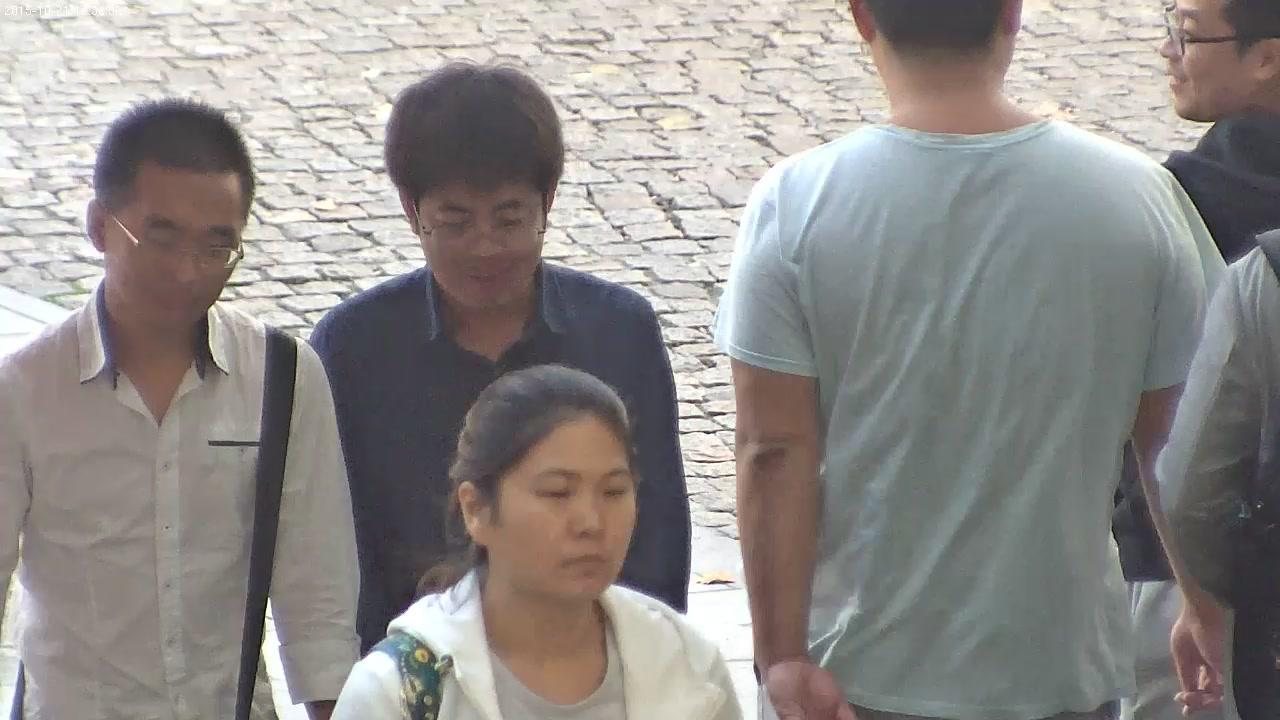face: (486, 413, 635, 598), (102, 161, 242, 321), (418, 181, 539, 304), (1160, 0, 1252, 122)
